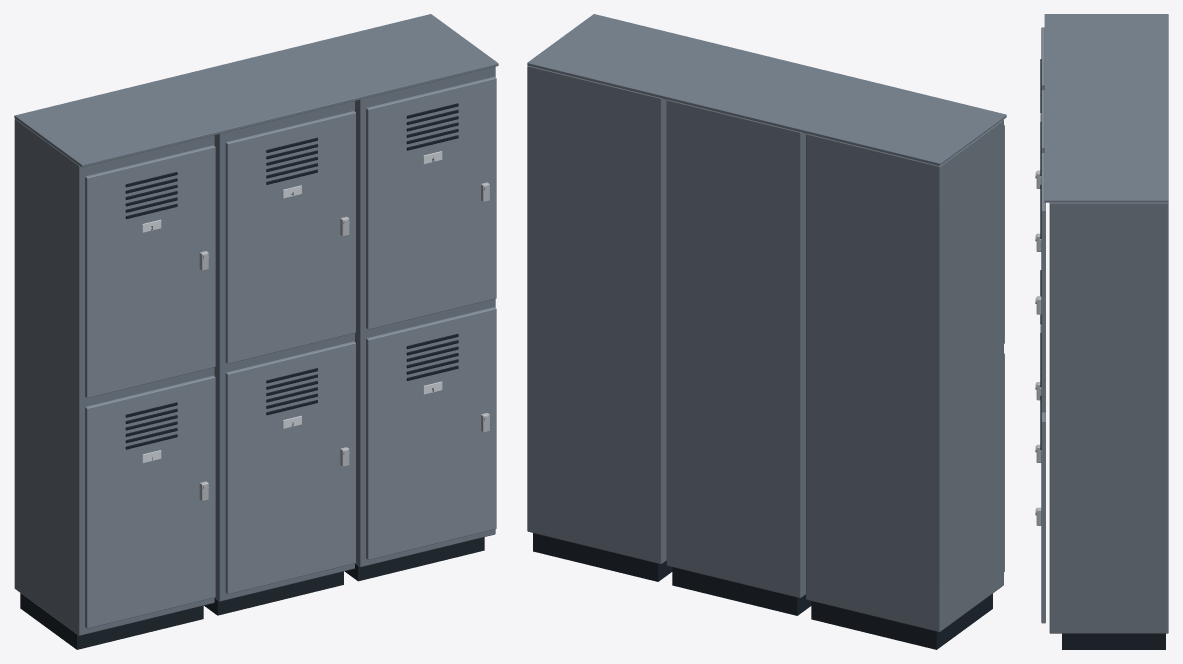
The model's file is lockers.glb.
3 views of the same model, side by side, from view 1: azimuth 30°, elevation 25°; view 2: azimuth 150°, elevation 25°; view 3: azimuth 270°, elevation 25° (orthographic). The views are drawn at different scales.
Visible parts, largest first — view 1: lockers; view 2: lockers; view 3: lockers.
Part boxes in pixels (x1,y1,x2,y2): lockers: (14, 14, 498, 649); lockers: (527, 14, 1006, 649); lockers: (1035, 14, 1168, 649).
Bounding box in the file's own units: 1.78 × 2.01 × 0.537.
